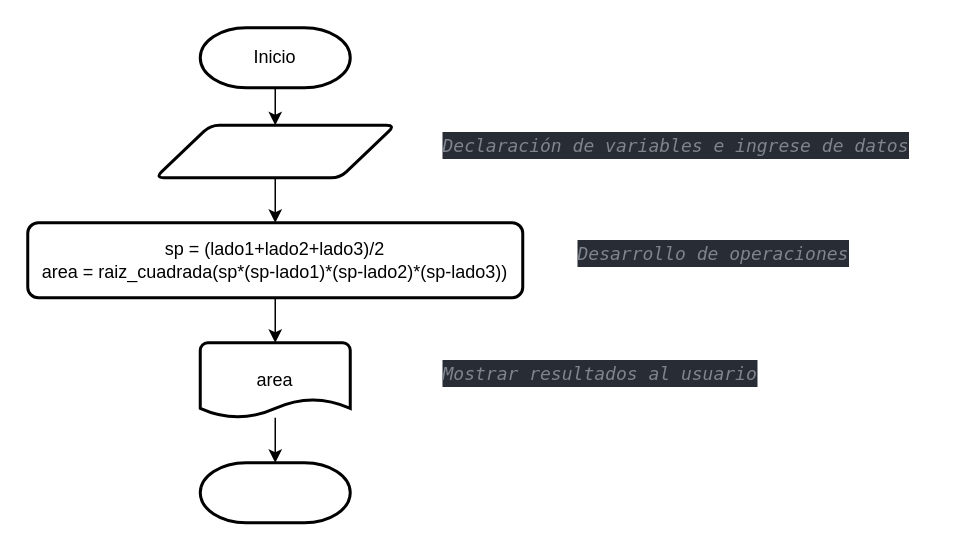
Image size: 975x549. Some labels were removed from this diagram. Here are the shapes that lost their labels. From the top down, the centre of each, then its label:
At point (274, 150): "lado1, lado2, lado3".
At point (274, 492): "Fin".
